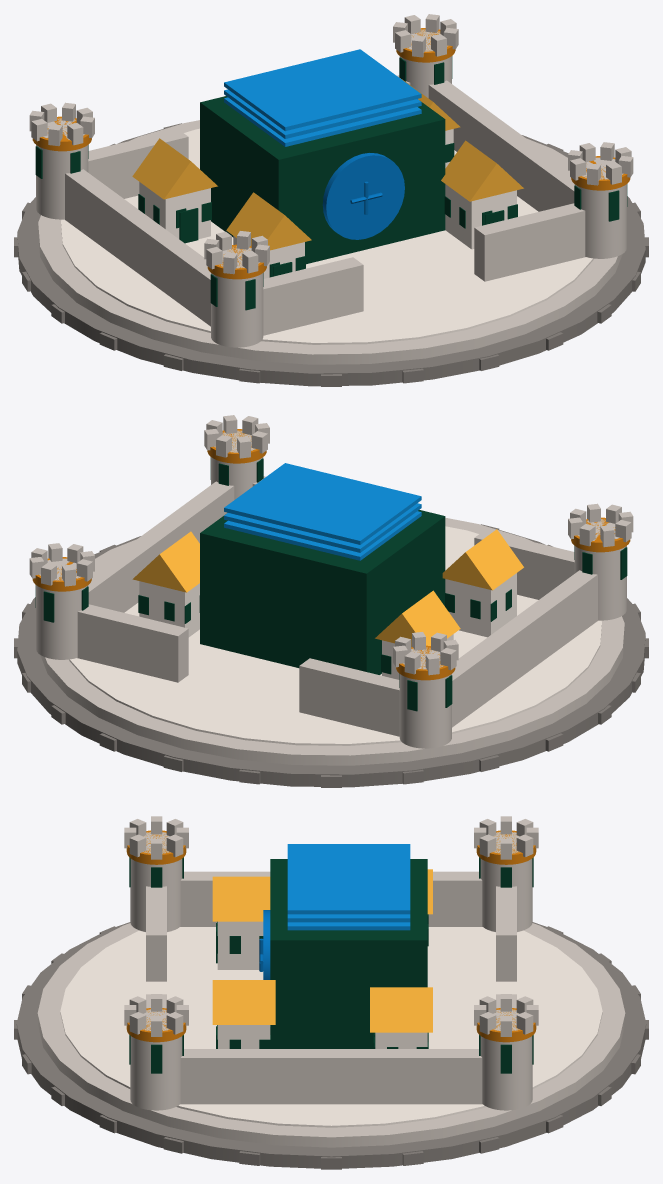
The model's file is city_backup.glb.
3 views of the same model, one above another, from view 1: azimuth 30°, elevation 25°; view 2: azimuth 150°, elevation 25°; view 3: azimuth 270°, elevation 25° (orthographic).
Visible parts, largest first — view 1: city-floor_grey, vault-keep_white, curtain-wall_white, corner-tower_white, lower-plinth_stone, upper-plinth_white, redundant-layer_stone, gate-wall_white, courtyard-building_green, instance_stone, courtyard-building_white, plinth-tooth_stone (+3 smaller); view 2: curtain-wall_white, vault-keep_white, city-floor_grey, corner-tower_white, lower-plinth_stone, upper-plinth_white, redundant-layer_stone, courtyard-building_green, courtyard-building_white, gate-wall_white, plinth-tooth_stone, corner-tower_stone (+2 smaller); view 3: city-floor_grey, curtain-wall_white, corner-tower_white, upper-plinth_white, vault-keep_white, lower-plinth_stone, redundant-layer_stone, courtyard-building_green, courtyard-building_white, plinth-tooth_stone, corner-tower_stone, gate-wall_white (+3 smaller).
Part boxes in pixels (x1=…): city-floor_grey: x1=61, y1=128, x2=593, y2=344; vault-keep_white: x1=200, y1=96, x2=445, y2=264; curtain-wall_white: x1=65, y1=75, x2=574, y2=326; corner-tower_white: x1=29, y1=14, x2=633, y2=347; lower-plinth_stone: x1=17, y1=125, x2=645, y2=386; upper-plinth_white: x1=38, y1=120, x2=622, y2=364; redundant-layer_stone: x1=224, y1=49, x2=421, y2=146; gate-wall_white: x1=263, y1=203, x2=585, y2=335; courtyard-building_green: x1=132, y1=79, x2=523, y2=250; instance_stone: x1=322, y1=153, x2=404, y2=239; courtyard-building_white: x1=139, y1=129, x2=516, y2=278; plinth-tooth_stone: x1=14, y1=123, x2=648, y2=386; curtain-wall_white: x1=77, y1=481, x2=597, y2=736; vault-keep_white: x1=200, y1=510, x2=445, y2=674; city-floor_grey: x1=69, y1=526, x2=601, y2=745; corner-tower_white: x1=29, y1=415, x2=633, y2=748; lower-plinth_stone: x1=17, y1=526, x2=645, y2=787; upper-plinth_white: x1=40, y1=517, x2=624, y2=765; redundant-layer_stone: x1=224, y1=463, x2=421, y2=560; courtyard-building_green: x1=132, y1=529, x2=523, y2=647; courtyard-building_white: x1=139, y1=573, x2=516, y2=679; gate-wall_white: x1=252, y1=476, x2=574, y2=599; plinth-tooth_stone: x1=14, y1=524, x2=648, y2=787; corner-tower_stone: x1=32, y1=429, x2=630, y2=680; city-floor_grey: x1=60, y1=927, x2=602, y2=1127; curtain-wall_white: x1=180, y1=871, x2=516, y2=1104; corner-tower_white: x1=124, y1=816, x2=538, y2=1110; upper-plinth_white: x1=37, y1=923, x2=625, y2=1147; vault-keep_white: x1=270, y1=859, x2=427, y2=1048; lower-plinth_stone: x1=16, y1=922, x2=646, y2=1168; redundant-layer_stone: x1=287, y1=844, x2=410, y2=930; courtyard-building_green: x1=212, y1=869, x2=432, y2=1032; courtyard-building_white: x1=217, y1=921, x2=427, y2=1048; plinth-tooth_stone: x1=14, y1=926, x2=648, y2=1169; corner-tower_stone: x1=126, y1=830, x2=536, y2=1042; gate-wall_white: x1=146, y1=886, x2=166, y2=1008.
Size of the model in its own units: 23.59 by 6.52 by 23.59.
